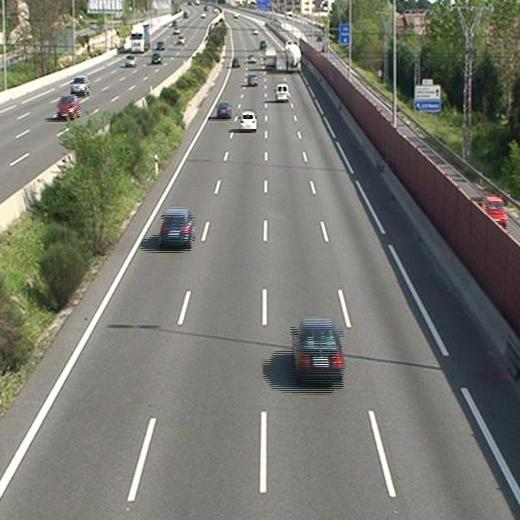car: (294, 317, 344, 381), (160, 211, 192, 245), (239, 111, 256, 130), (216, 101, 231, 118), (247, 73, 259, 87), (231, 58, 239, 68)
small-truck: (264, 48, 277, 70)
tank-truck: (285, 40, 302, 71)
van: (276, 85, 289, 101)
